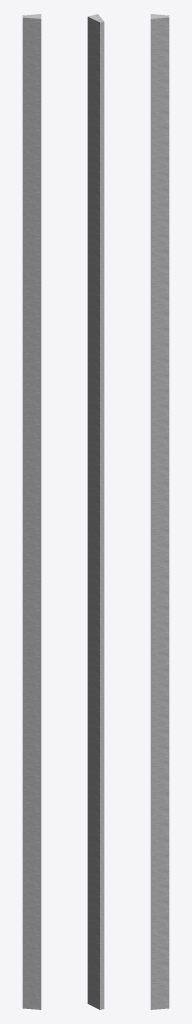
3 renders of one model, left to right at view 1: azimuth 90°, elevation 25°; view 2: azimuth 210°, elevation 25°; view 3: azimuth 270°, elevation 25°, orthographic.
Visible parts, largest first — view 1: cb-segment-lod; view 2: cb-segment-lod; view 3: cb-segment-lod.
Part boxes in pixels (box(x1,y1,x2,y2)): cb-segment-lod: box(22, 14, 41, 1009); cb-segment-lod: box(87, 14, 104, 1009); cb-segment-lod: box(150, 14, 169, 1009).
Bounding box in the file's own units: 70 × 6400 × 110.
